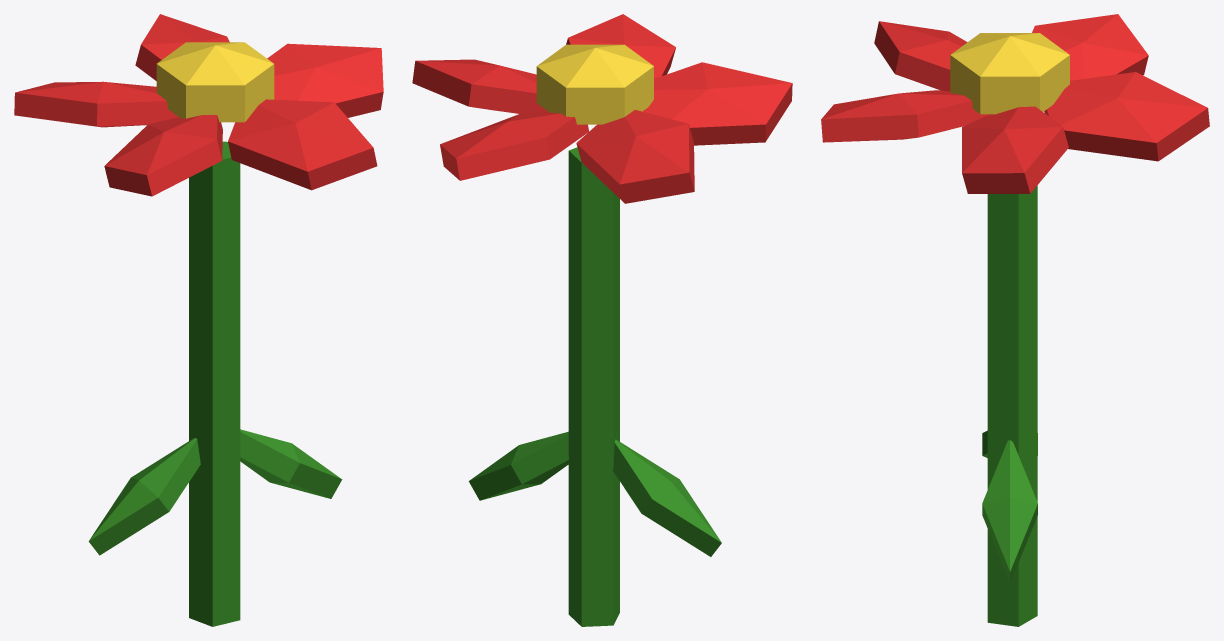
Rendered from flower_red.glb.
3 views of the same model, side by side, from view 1: azimuth 30°, elevation 25°; view 2: azimuth 150°, elevation 25°; view 3: azimuth 270°, elevation 25° (orthographic).
Visible parts, largest first — view 1: Cylinder; view 2: Cylinder; view 3: Cylinder.
Boxes of the visible parts, bbox=[...] form: Cylinder: bbox=[14, 14, 383, 626]; Cylinder: bbox=[412, 14, 792, 626]; Cylinder: bbox=[821, 14, 1209, 626].
Size of the model in its own units: 0.2477 by 0.417 by 0.2535.
